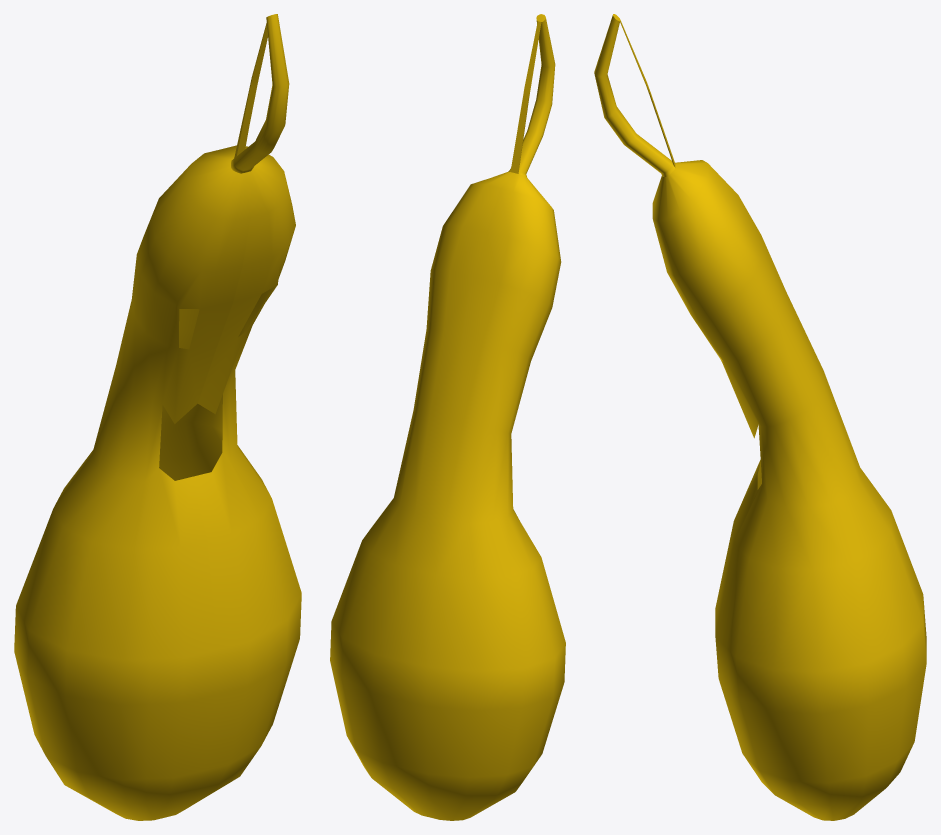
Rendered from GhostArcher.fbx.
3 views of the same model, side by side, from view 1: azimuth 30°, elevation 25°; view 2: azimuth 150°, elevation 25°; view 3: azimuth 270°, elevation 25° (orthographic). The views are drawn at different scales.
Visible parts, largest first — view 1: ArcherGhost; view 2: ArcherGhost; view 3: ArcherGhost.
Part boxes in pixels (x1,y1,x2,y2): ArcherGhost: (14, 14, 301, 820); ArcherGhost: (330, 14, 565, 820); ArcherGhost: (594, 14, 926, 820).
Bounding box in the file's own units: 0.8435 × 2.76 × 1.04.
